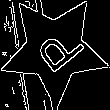P_SW: (24, 20, 85, 80)
